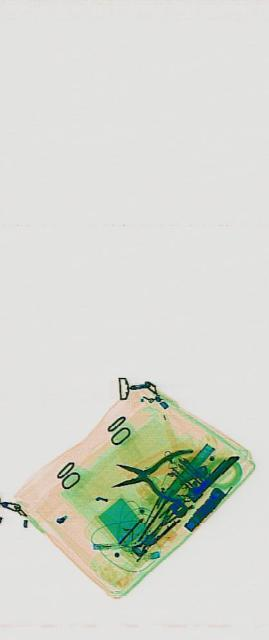Pliers: (109, 437, 192, 505)
